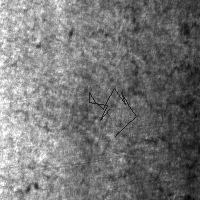crazing: (74, 51, 200, 154), (89, 88, 136, 136)
